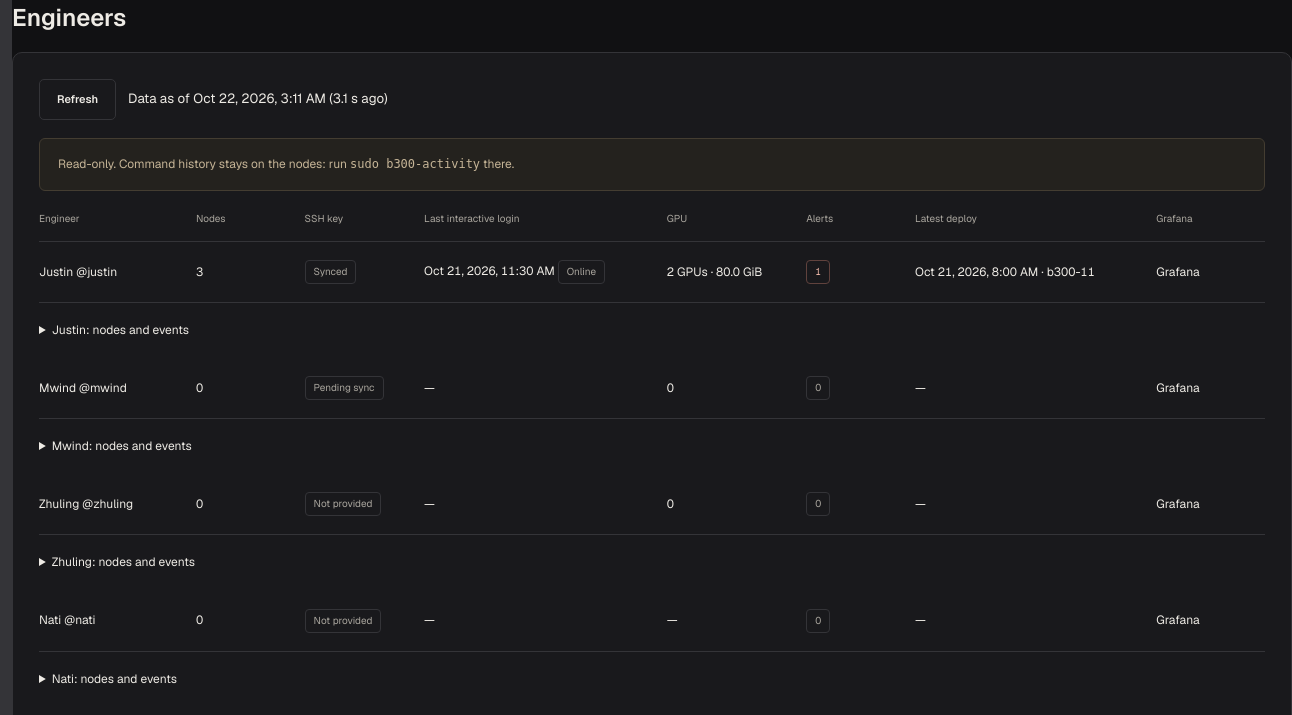
Test: admin engineers section › renders deploy text as text
Step 1. Click the heading "Justin: nodes and events" → [120, 330], box [52,322,189,338]
(page scrolled)
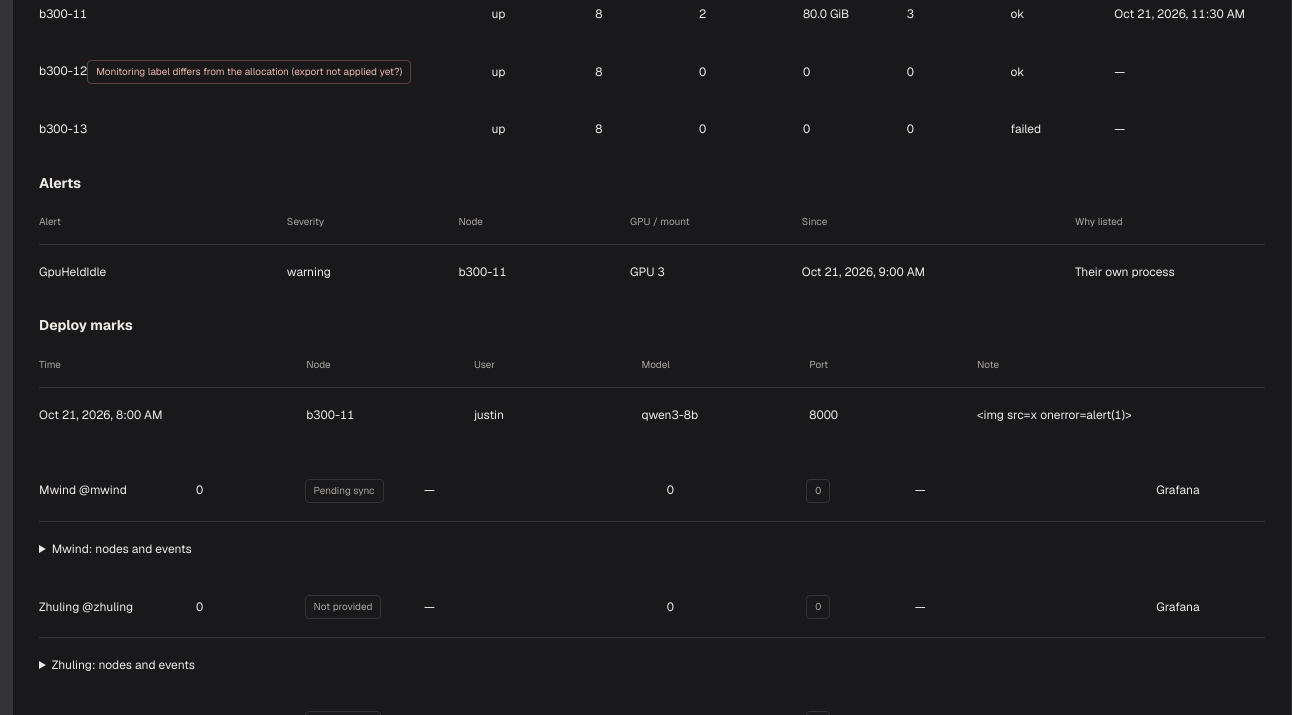
Expected: the text "<img src=x onerror=alert(1)>" is shown, [977,388,1265,443]
